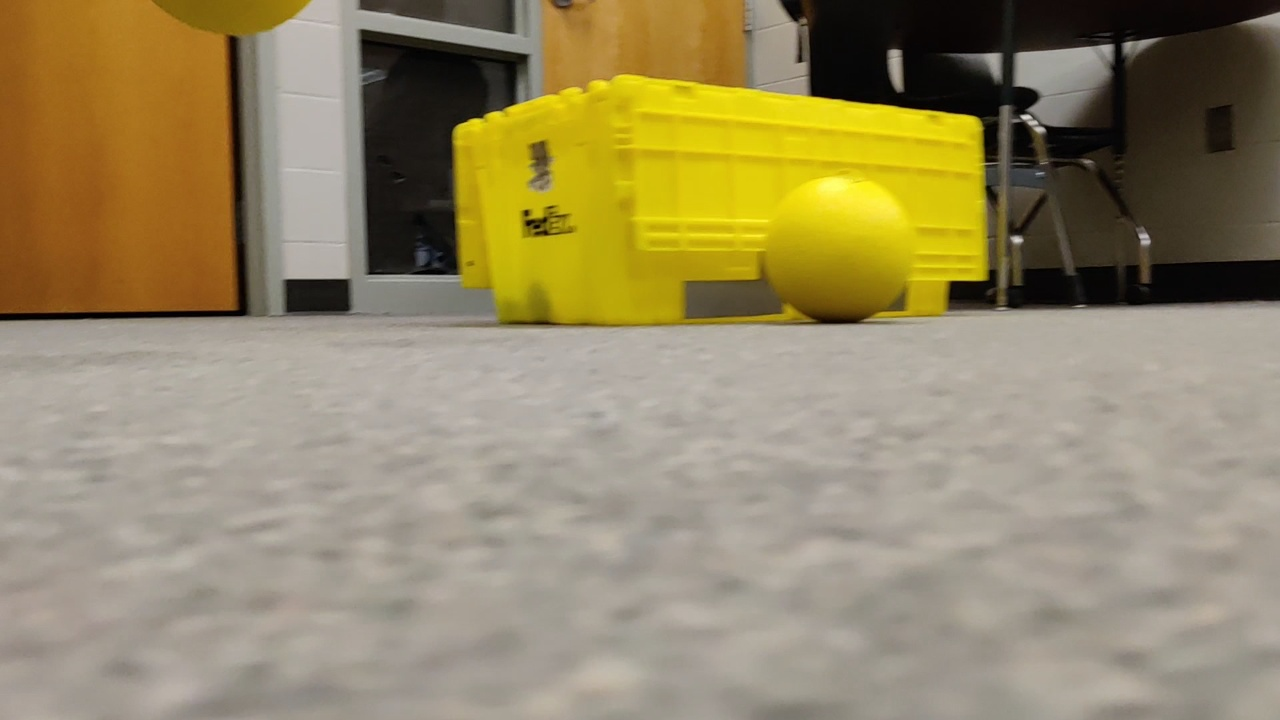Ball: (767, 170, 916, 321), (148, 1, 311, 50)
